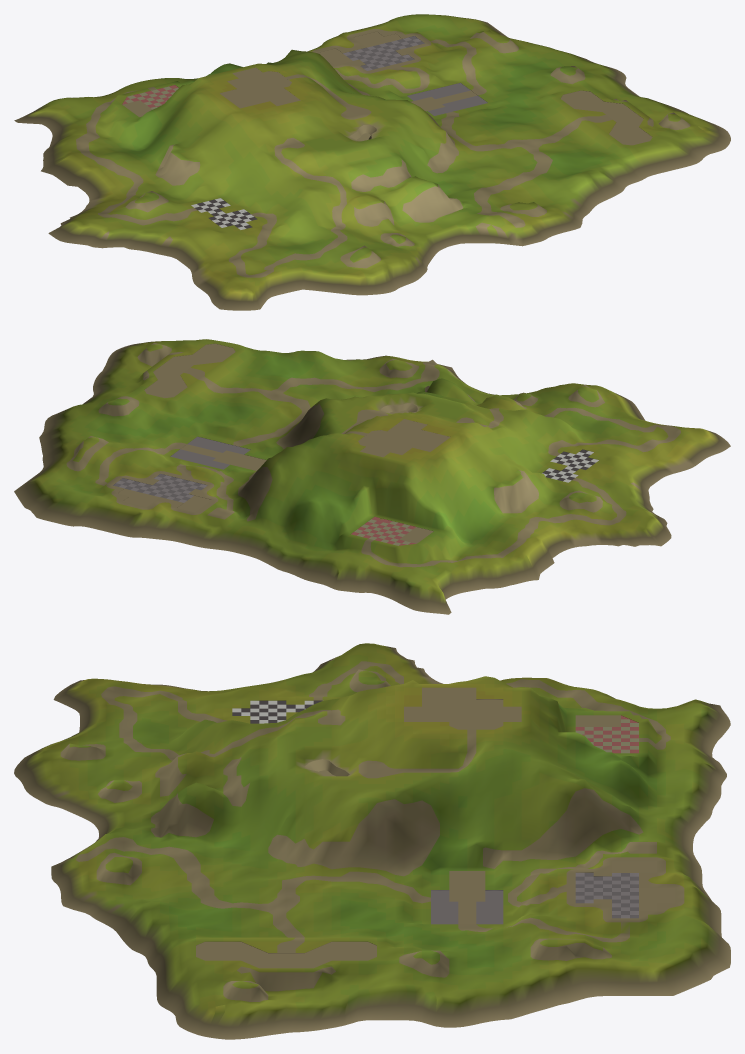
The model's file is SM_TutorialIsland.fbx.
3 renders of one model, top to bottom at view 1: azimuth 30°, elevation 25°; view 2: azimuth 150°, elevation 25°; view 3: azimuth 270°, elevation 25°, orthographic. The views are drawn at different scales.
Parts seen in each view (by area): view 1: Mesh_083; view 2: Mesh_083; view 3: Mesh_083.
Part boxes in pixels (bbox=[...]): Mesh_083: bbox=[14, 14, 730, 310]; Mesh_083: bbox=[14, 339, 730, 614]; Mesh_083: bbox=[14, 643, 730, 1039].
Bounding box in the file's own units: 10248 × 1088 × 7932.
